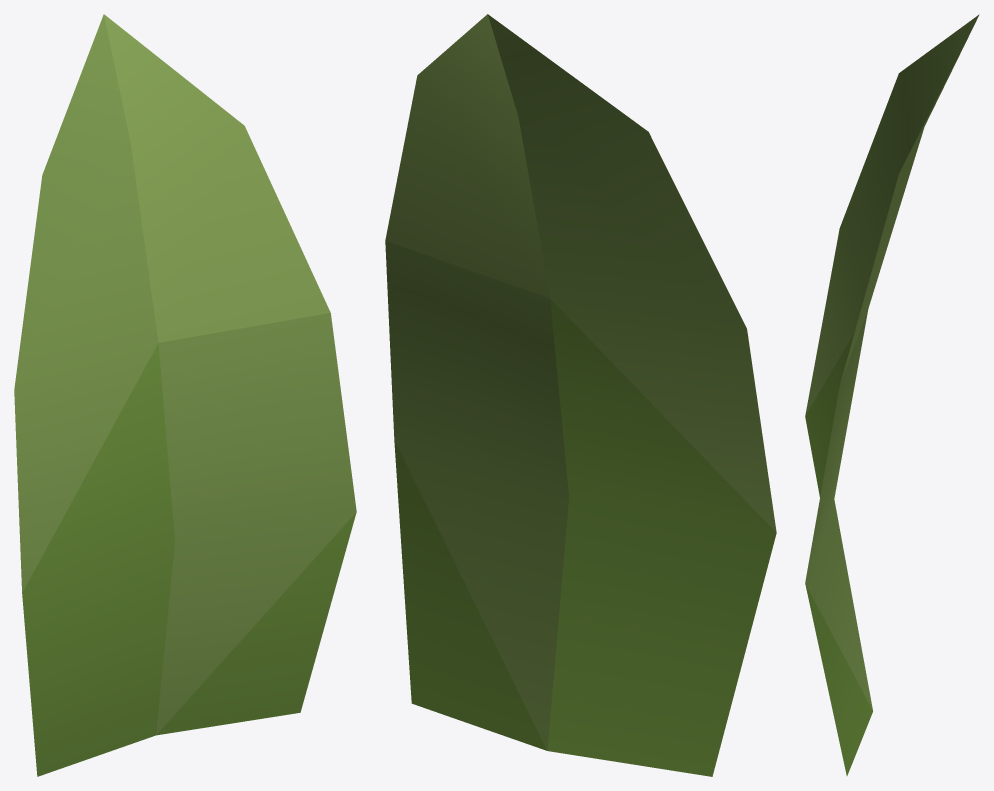
File: itch_kaykit_forest_grass_1_a_singlesided_color1.glb
The picture shows the model from 3 angles, left to right: view 1: azimuth 30°, elevation 25°; view 2: azimuth 150°, elevation 25°; view 3: azimuth 270°, elevation 25°; orthographic projection. The views are drawn at different scales.
Visible parts, largest first — view 1: Grass_1_A_Singlesided_Color1; view 2: Grass_1_A_Singlesided_Color1; view 3: Grass_1_A_Singlesided_Color1.
Boxes of the visible parts, x1,y1,x2,y2 form: Grass_1_A_Singlesided_Color1: (14, 14, 356, 776); Grass_1_A_Singlesided_Color1: (385, 14, 776, 776); Grass_1_A_Singlesided_Color1: (805, 14, 979, 775).
Size of the model in its own units: 0.9482 by 1.85 by 0.42.
